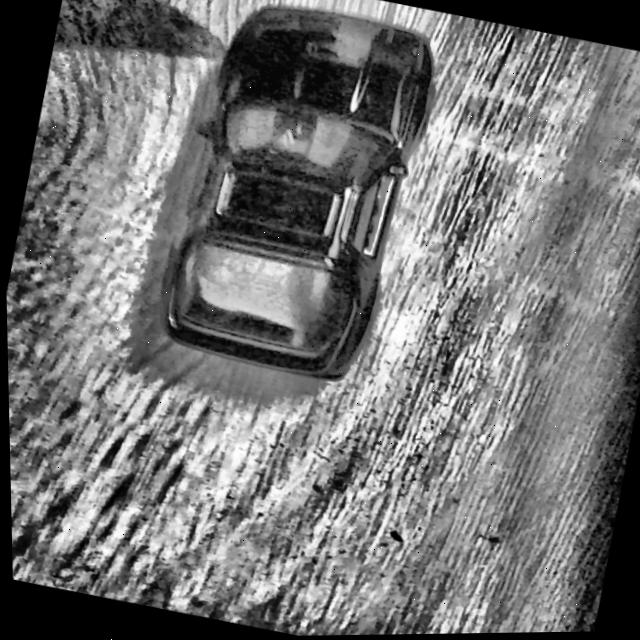car: (146, 0, 452, 394)
